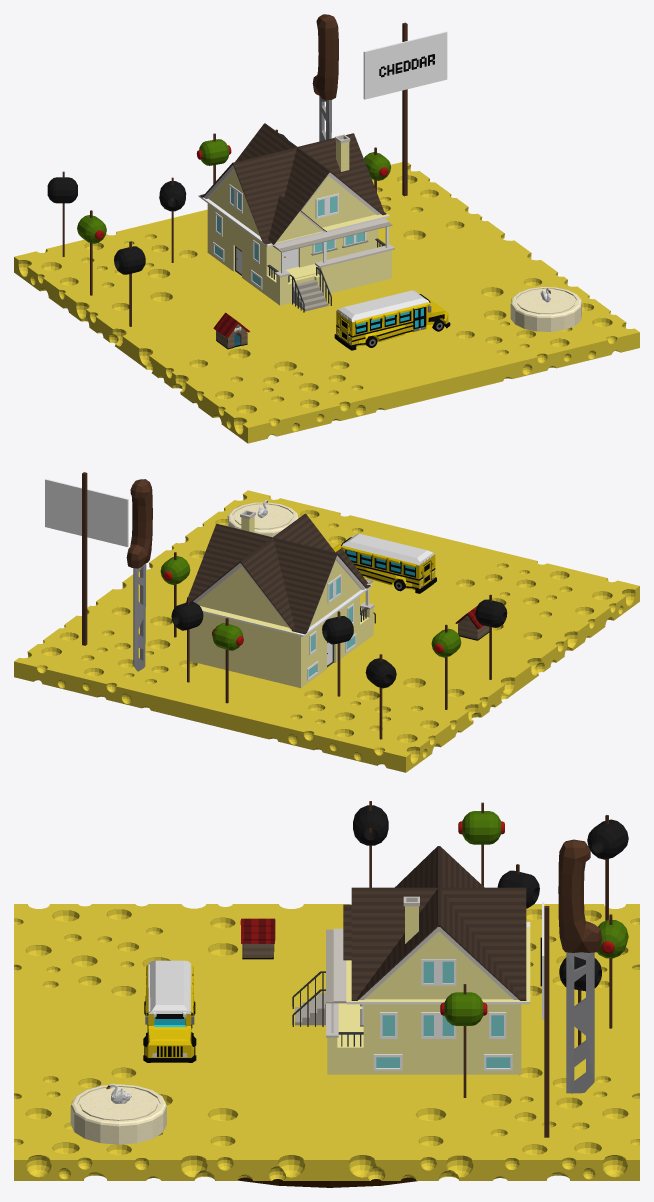
3 renders of one model, top to bottom at view 1: azimuth 30°, elevation 25°; view 2: azimuth 150°, elevation 25°; view 3: azimuth 270°, elevation 25°, orthographic. The views are drawn at different scales.
Visible parts, largest first — view 1: Cube.022, Cube.1555, Cube.023, VEHICLES_SCHOOL_BUS, Cylinder.016, Cube.024, Sphere.017, Sphere.016, OBJRANDOM_DOGHOUSE, Sphere.020, Sphere.018, Sphere.022 (+1 smaller); view 2: Cube.022, Cube.1555, Cube.023, VEHICLES_SCHOOL_BUS, Cube.024, Cylinder.016, Sphere.020, Sphere.016, Sphere.022, Sphere.017, Sphere.021, Sphere.018 (+2 smaller); view 3: Cube.022, Cube.1555, Cube.024, VEHICLES_SCHOOL_BUS, Cylinder.016, Cube.023, Sphere.019, Sphere.016, Sphere.018, OBJRANDOM_DOGHOUSE, Sphere.017, Sphere.022 (+3 smaller).
Boxes of the visible parts, x1,y1,x2,y2 form: Cube.022: (14,162,639,443); Cube.1555: (198,123,394,312); Cube.023: (363,22,447,196); VEHICLES_SCHOOL_BUS: (334,290,450,350); Cylinder.016: (510,287,581,331); Cube.024: (312,14,338,141); Sphere.017: (114,241,145,326); Sphere.016: (47,171,77,256); OBJRANDOM_DOGHOUSE: (213,312,249,349); Sphere.020: (159,177,186,262); Sphere.018: (77,210,106,295); Sphere.022: (196,133,231,183); Cube.022: (14,490,639,772); Cube.1555: (185,510,375,688); Cube.023: (45,472,128,645); VEHICLES_SCHOOL_BUS: (333,533,436,593); Cube.024: (126,479,152,671); Cylinder.016: (227,502,298,537); Sphere.020: (322,611,353,696); Sphere.016: (365,654,396,739); Sphere.022: (212,618,243,703); Sphere.017: (475,594,507,679); Sphere.021: (171,597,203,682); Sphere.018: (431,624,461,709); Cube.022: (14,904,639,1180); Cube.1555: (292,846,530,1074); Cube.024: (558,839,601,1093); VEHICLES_SCHOOL_BUS: (143,960,196,1062); Cylinder.016: (70,1084,166,1144); Cube.023: (540,902,549,1137); Sphere.019: (440,984,487,1097); Sphere.016: (587,815,628,920); Sphere.018: (458,802,504,886); OBJRANDOM_DOGHOUSE: (240,918,275,959); Sphere.017: (353,801,388,887); Sphere.022: (597,914,628,1028).
Bounding box in the file's own units: 3917 × 2073 × 4000.
Materials: 46 (3 with a texture image).
